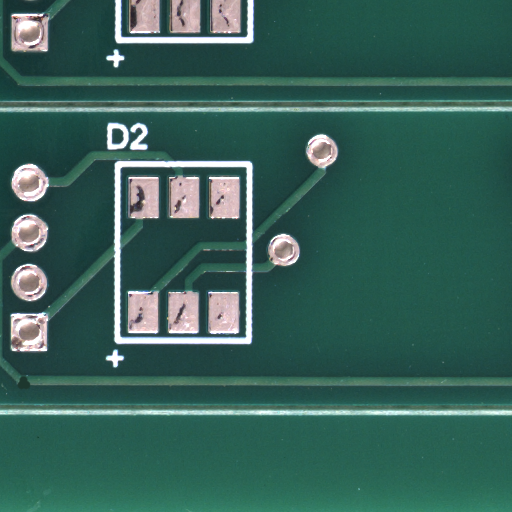Mouse_bite: (23, 382, 36, 395), (0, 16, 4, 34)
